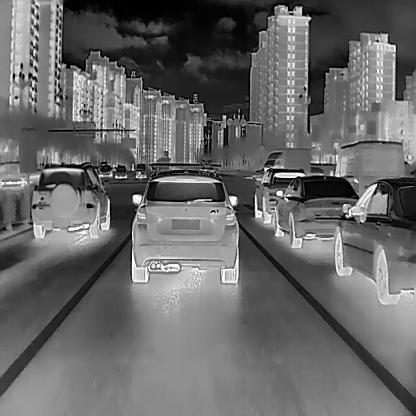car: (129, 165, 240, 283), (333, 175, 416, 284), (272, 173, 361, 248), (30, 161, 111, 238), (334, 141, 406, 198), (251, 167, 305, 224), (262, 146, 311, 179), (114, 164, 127, 180), (135, 162, 146, 180), (98, 164, 112, 176)
